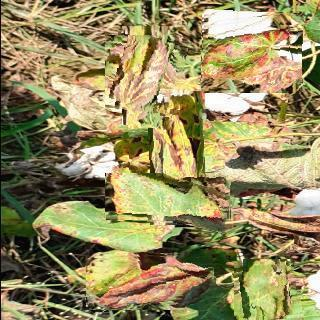blight: (128, 109, 225, 206), (200, 11, 302, 93), (85, 252, 215, 310), (104, 173, 231, 227), (104, 35, 184, 115), (233, 262, 300, 320)
